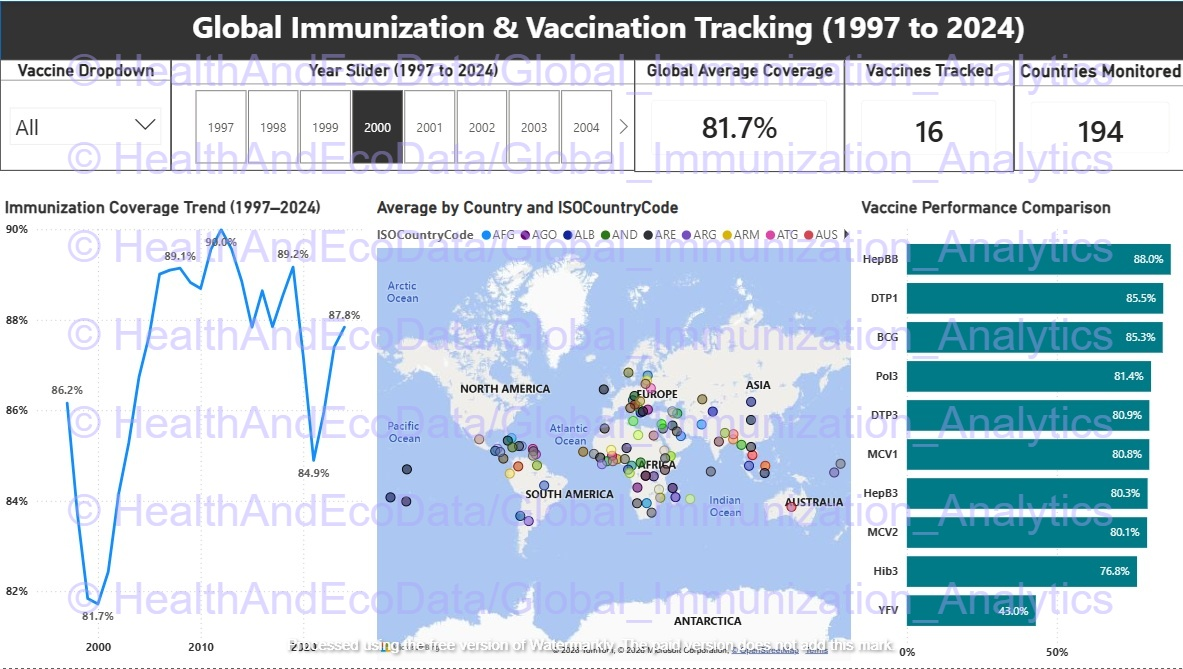

What the dashboard file says about the page in this screenshot:
{"tool":"powerbi","page":{"name":"Page 1","canvas":[1280,720],"ordinal":0},"visuals":[{"type":"map","fields":{"Category":["Dim_Country.Country"],"Series":["Dim_Country.ISOCountryCode"]},"box":[401.7,212.1,522.4,505.2],"z":0},{"type":"lineChart","title":"Immunization Coverage Trend (1997–2024)","fields":{"Category":["Dim_Calendar.Year"],"Y":["Fact_Vaccination.Average"]},"box":[0,212.1,401.6,503.6],"z":1000},{"type":"clusteredBarChart","title":"Vaccine Performance Comparison","fields":{"Category":["Dim_Vaccine.Vaccine"],"Y":["Fact_Vaccination.Average"]},"box":[924.1,211.4,356.9,508.6],"z":2000},{"type":"shape","box":[0,0,1280.8,64.8],"z":3000},{"type":"textbox","box":[202.4,0,910,64.8],"z":4000},{"type":"slicer","title":"Year Slider (1997 to 2024)","fields":{"Values":["Dim_Calendar.Year"]},"box":[184.6,63.5,500.3,119.8],"z":5000},{"type":"cardVisual","title":"Global Average Coverage","fields":{"Data":["Fact_Vaccination.Average"]},"box":[684.9,63.1,226.7,121.4],"z":6000},{"type":"cardVisual","title":"Vaccines Tracked","fields":{"Data":["Count(Dim_Vaccine.Vaccine)"]},"box":[911.6,62.7,183,121.4],"z":7000},{"type":"cardVisual","title":"Countries Monitored","fields":{"Data":["Count(Dim_Country.Country)"]},"box":[1094.6,63.5,186.2,119.8],"z":8000},{"type":"slicer","title":"Vaccine Dropdown","fields":{"Values":["Dim_Vaccine.Vaccine"]},"box":[0,63.5,184.6,119.8],"z":9000}]}

Visuals, with their boxes in screenshot pixels (x1, y1, x2, y2), scaled from the page's 1280x720 canvas onto the 1183x669 screenshot:
map - Dim_Country.Country x Dim_Country.ISOCountryCode: bbox(371, 197, 854, 666)
"Immunization Coverage Trend (1997–2024)" lineChart: bbox(0, 197, 371, 665)
"Vaccine Performance Comparison" clusteredBarChart: bbox(854, 196, 1182, 668)
shape: bbox(0, 0, 1182, 60)
textbox: bbox(187, 0, 1028, 60)
"Year Slider (1997 to 2024)" slicer: bbox(171, 59, 633, 170)
"Global Average Coverage" cardVisual: bbox(633, 59, 843, 171)
"Vaccines Tracked" cardVisual: bbox(843, 58, 1012, 171)
"Countries Monitored" cardVisual: bbox(1012, 59, 1182, 170)
"Vaccine Dropdown" slicer: bbox(0, 59, 171, 170)
